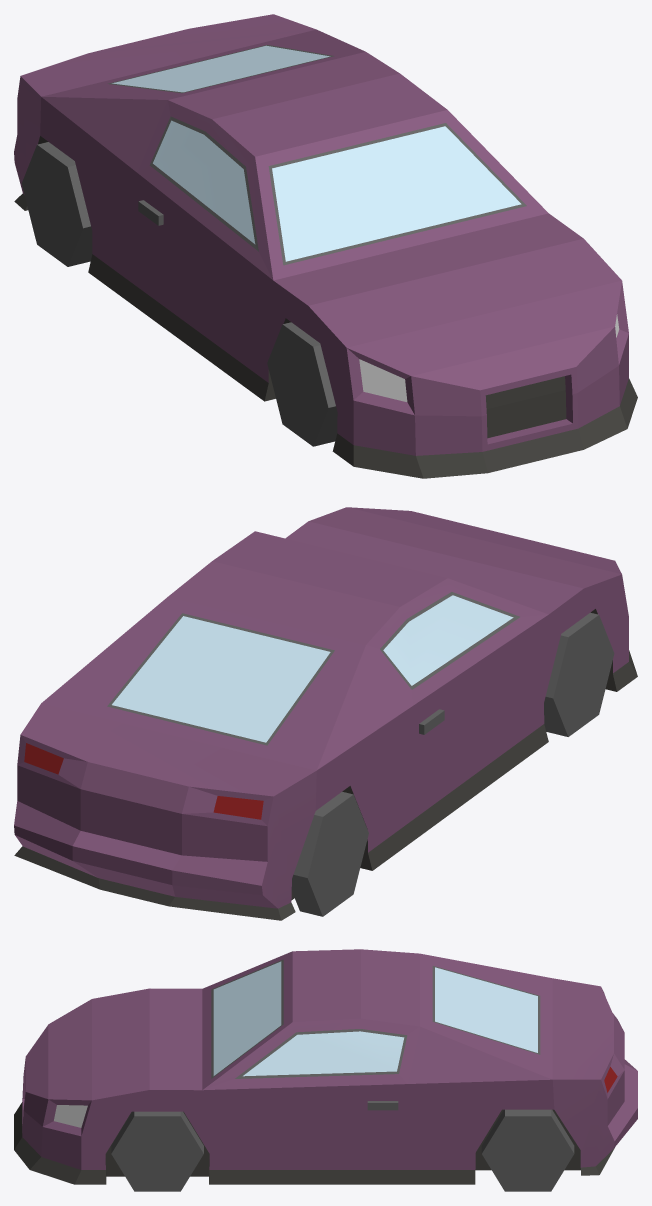
File: normal2.glb
3 views of the same model, one above another, from view 1: azimuth 30°, elevation 25°; view 2: azimuth 150°, elevation 25°; view 3: azimuth 270°, elevation 25° (orthographic). The views are drawn at different scales.
Parts seen in each view (by area): view 1: Car_3_3; view 2: Car_3_3; view 3: Car_3_3.
Part boxes in pixels (left/top/right/bottom): Car_3_3: left=14, top=14, right=637, bottom=478; Car_3_3: left=14, top=507, right=637, bottom=920; Car_3_3: left=14, top=949, right=637, bottom=1191.
Bounding box in the file's own units: 2.96 × 2.03 × 7.4.
1 material, 1 textured.
